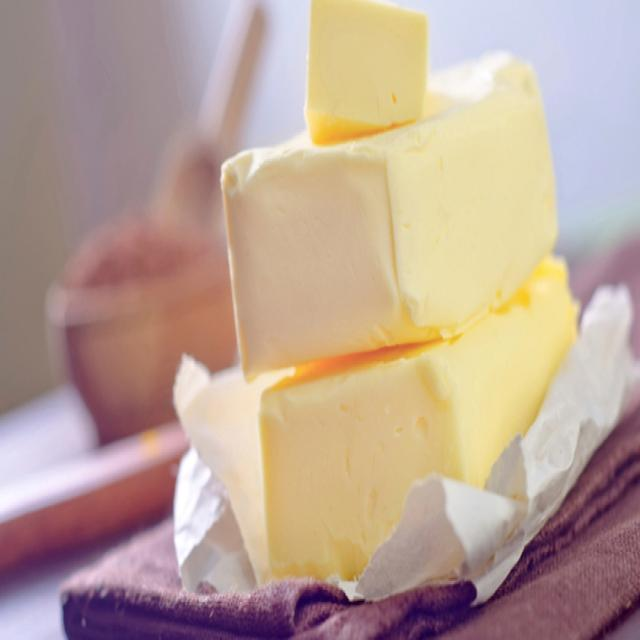Butter: (222, 34, 554, 356), (260, 270, 573, 576), (307, 1, 430, 146)
